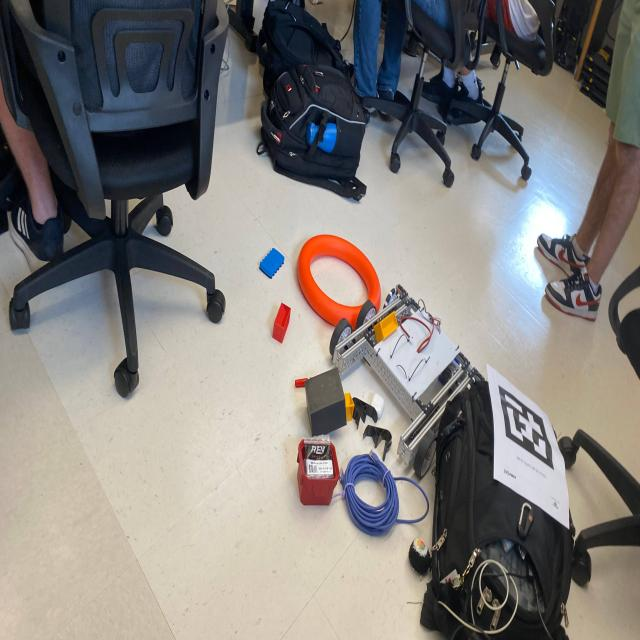red-specimen: (272, 303, 291, 343)
yellow-specimen: (374, 311, 398, 343), (344, 393, 354, 421)
